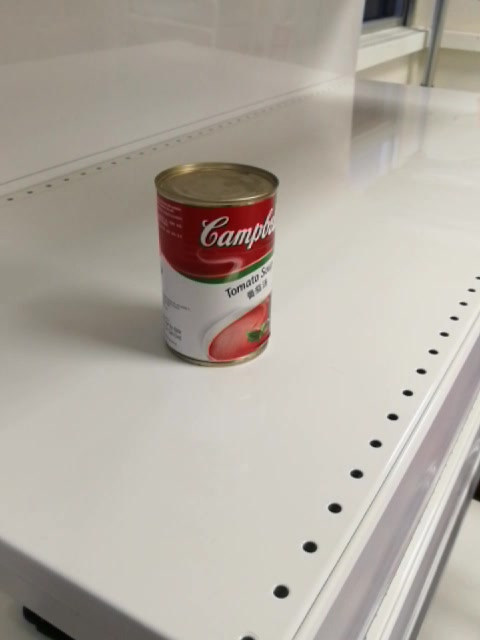tomatosoup: (153, 162, 282, 369)
